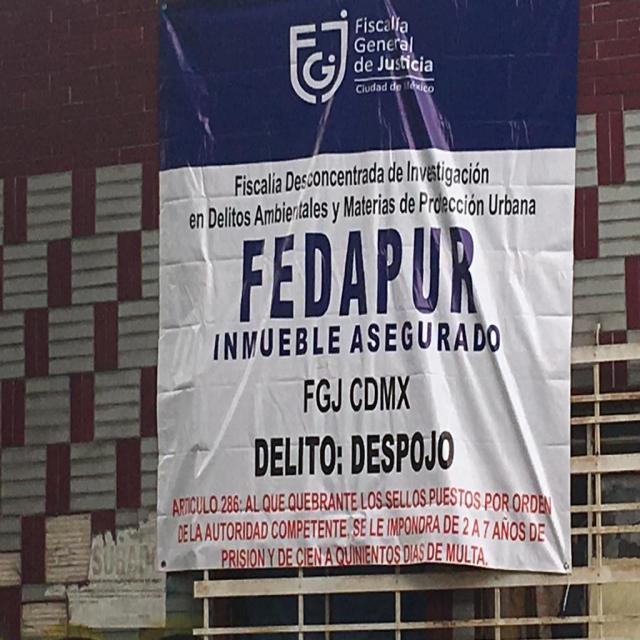stamps: (155, 1, 579, 580)
